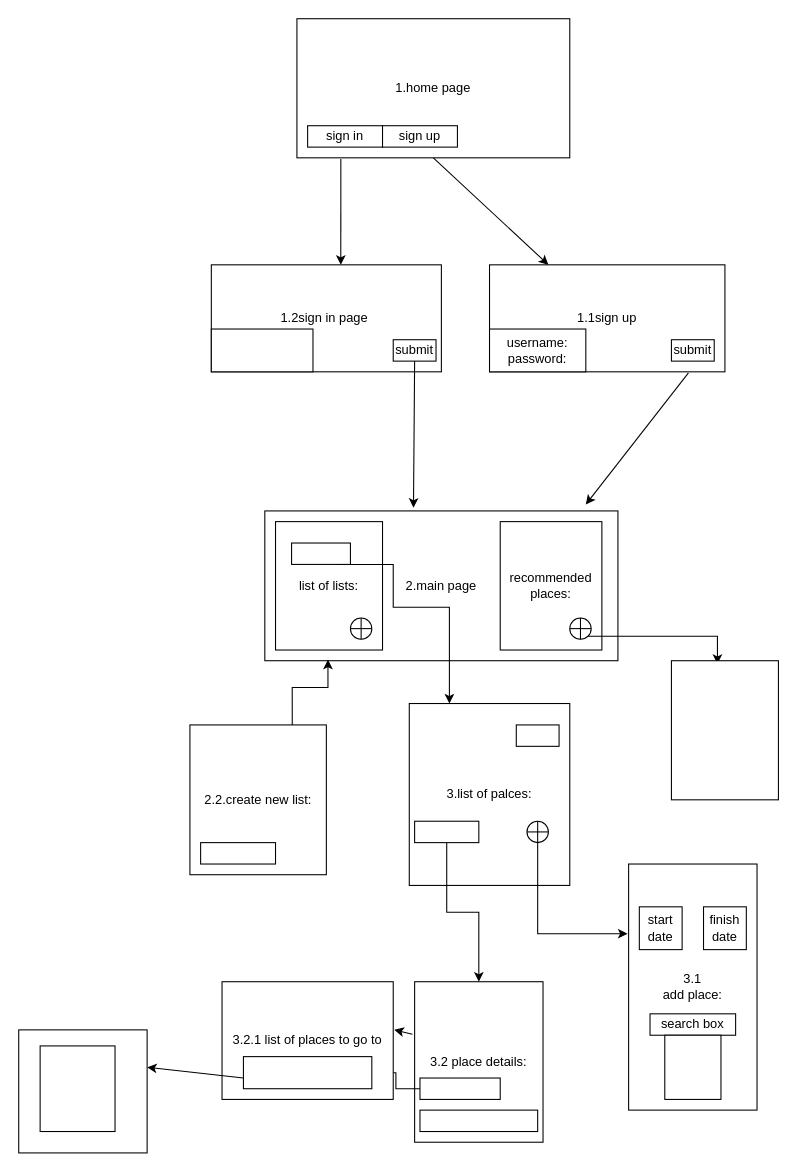
Some shapes in this 797 by 1172 pixel diagram are drawn without their labels. Each missing label, with the centre of its shape:
"2.1 add to list:" belongs at pixel 724 730.
"color" belongs at pixel 238 853.
"edit" belongs at pixel 537 735.
"enter username: enter password:" belongs at pixel 261 350.
"list name" belongs at pixel 320 553.
"list of places" belongs at pixel 77 1088.
"list of places to go to" belongs at pixel 307 1072.
"place" belongs at pixel 446 831.
"places to go to" belongs at pixel 478 1120.
"weather" belongs at pixel 459 1088.
